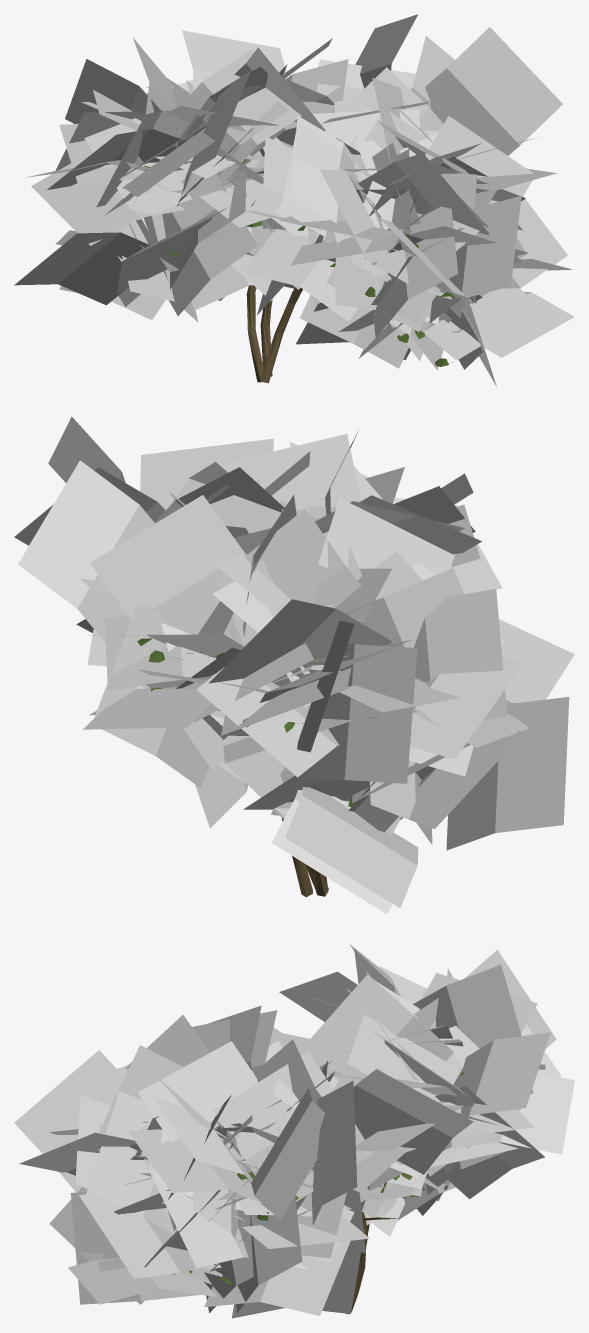
Rendered from Lentisque_Ancien_LOD2.fbx.
3 renders of one model, top to bottom at view 1: azimuth 30°, elevation 25°; view 2: azimuth 150°, elevation 25°; view 3: azimuth 270°, elevation 25°, orthographic. The views are drawn at different scales.
Parts seen in each view (by area): view 1: Lentisque_Ancien_LOD2; view 2: Lentisque_Ancien_LOD2; view 3: Lentisque_Ancien_LOD2.
Boxes of the visible parts, x1,y1,x2,y2 form: Lentisque_Ancien_LOD2: (14, 14, 574, 386); Lentisque_Ancien_LOD2: (14, 416, 574, 914); Lentisque_Ancien_LOD2: (14, 943, 574, 1318).
Bounding box in the file's own units: 414 × 267 × 401.
